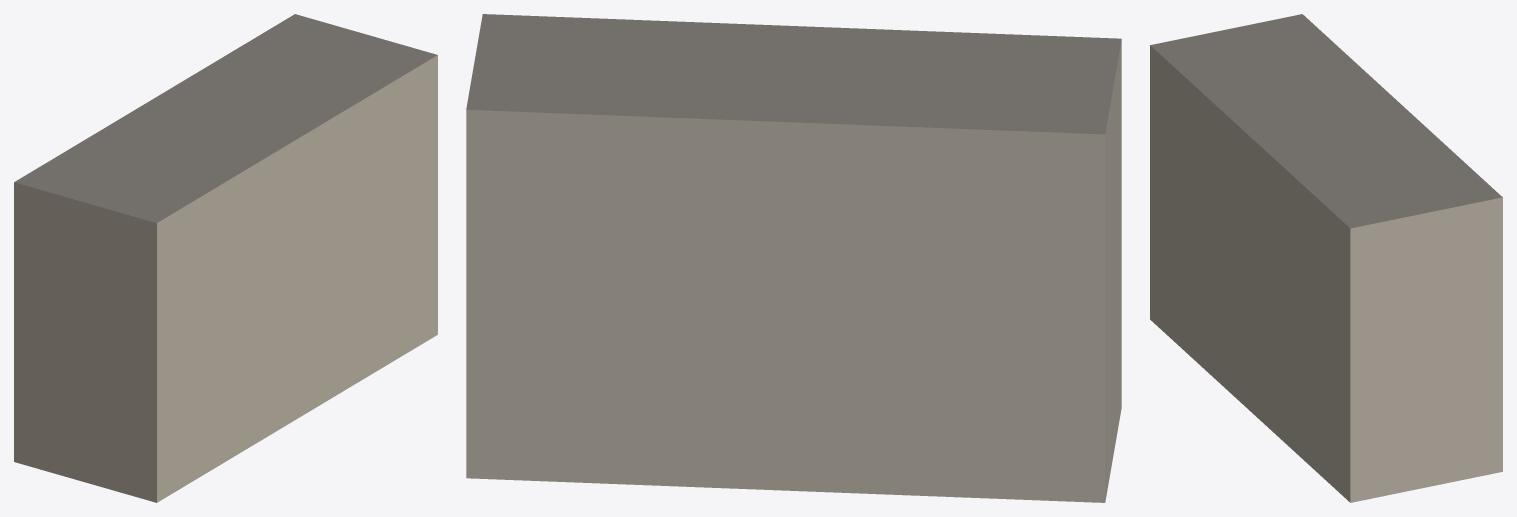
3 renders of one model, left to right at view 1: azimuth 30°, elevation 25°; view 2: azimuth 150°, elevation 25°; view 3: azimuth 270°, elevation 25°, orthographic. The views are drawn at different scales.
Visible parts, largest first — view 1: HP-w505633357; view 2: HP-w505633357; view 3: HP-w505633357.
Boxes of the visible parts, x1,y1,x2,y2 form: HP-w505633357: [14, 14, 437, 502]; HP-w505633357: [466, 14, 1121, 502]; HP-w505633357: [1150, 14, 1502, 502].
Size of the model in its own units: 30.18 by 18 by 20.97.
